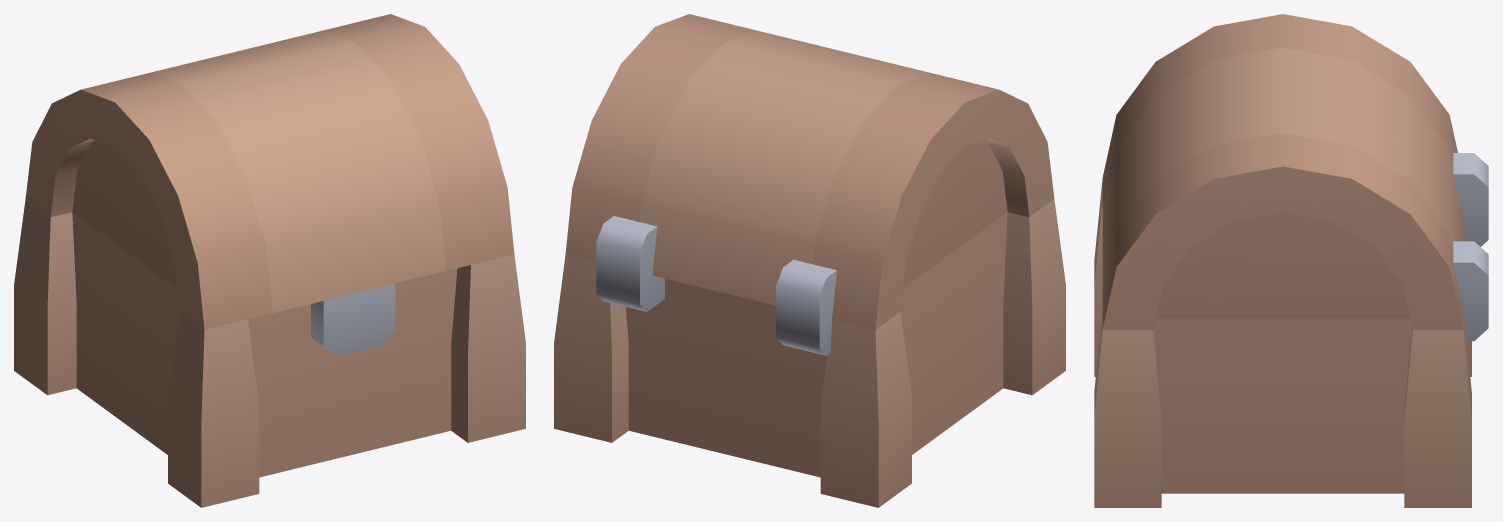
The model's file is chest.glb.
3 renders of one model, left to right at view 1: azimuth 30°, elevation 25°; view 2: azimuth 150°, elevation 25°; view 3: azimuth 270°, elevation 25°, orthographic.
Visible parts, largest first — view 1: lid, chest; view 2: lid, chest; view 3: lid, chest.
Part boxes in pixels (x1,y1,x2,y2): lid: [25, 14, 514, 356]; chest: [14, 199, 525, 507]; lid: [565, 14, 1054, 329]; chest: [554, 199, 1065, 507]; lid: [1102, 14, 1463, 329]; chest: [1094, 153, 1488, 507].
Size of the model in its own units: 0.2604 by 0.2572 by 0.272.
